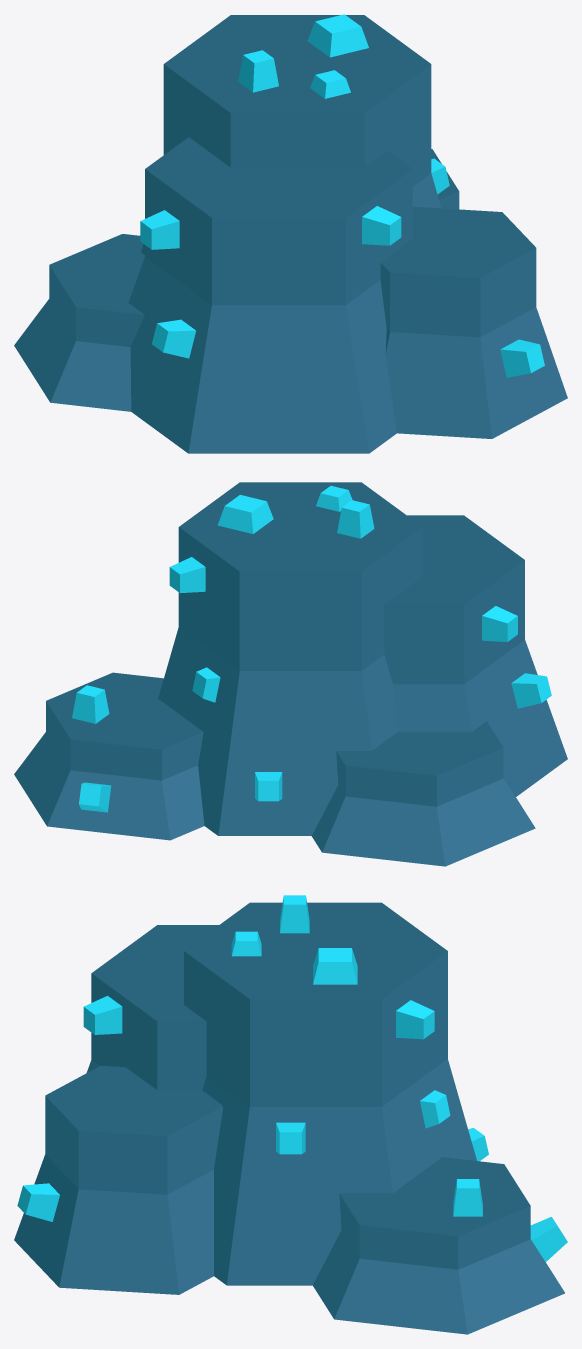
Rendered from crystal-cluster.t1.a6bb2f13.glb.
3 renders of one model, top to bottom at view 1: azimuth 30°, elevation 25°; view 2: azimuth 150°, elevation 25°; view 3: azimuth 270°, elevation 25°, orthographic. The views are drawn at different scales.
Size of the model in its own units: 1.31 by 0.7676 by 1.3.
